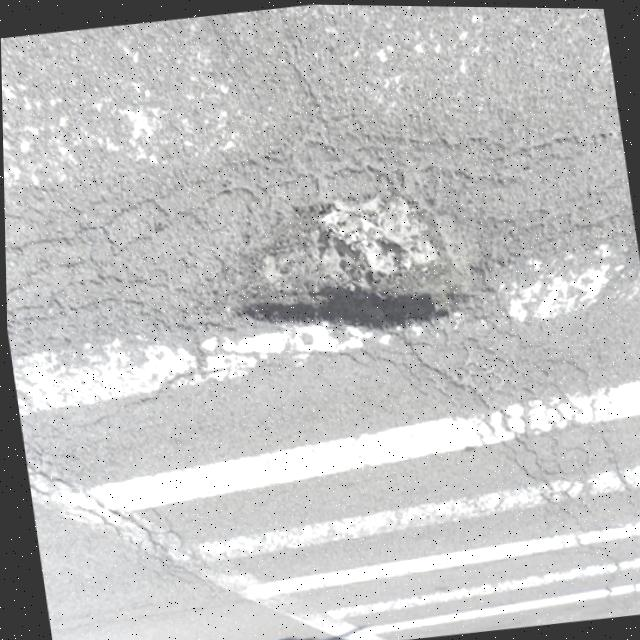Pothole: (208, 201, 535, 395)
